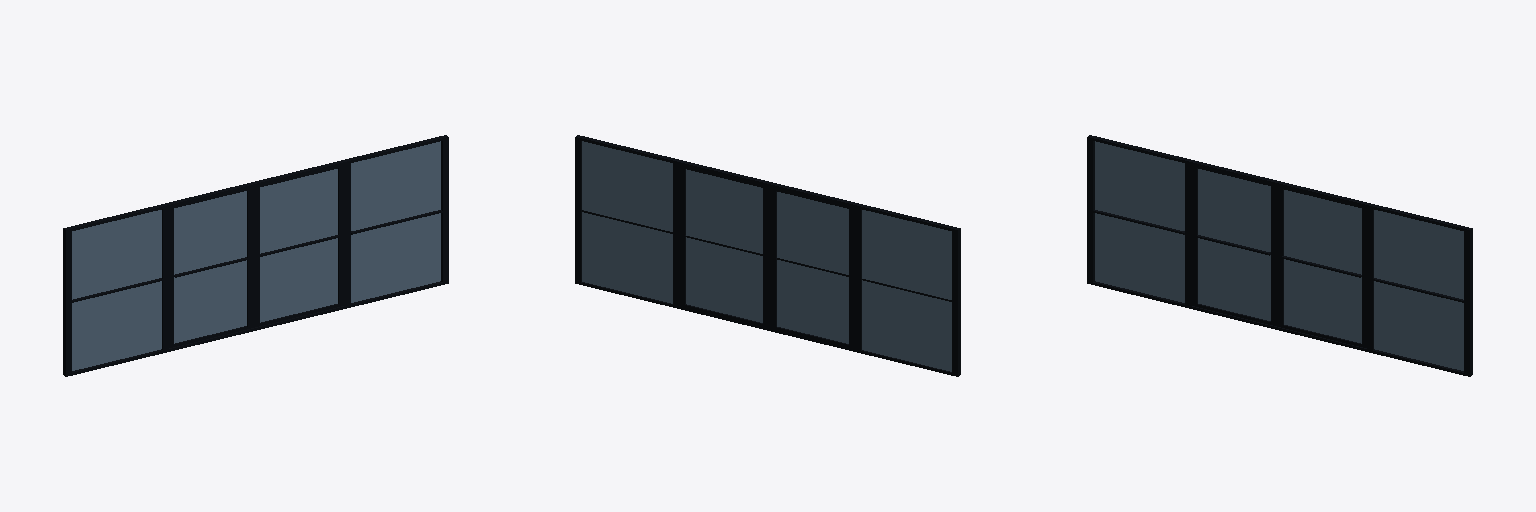
Rendered from chuang7.obj.
The picture shows the model from 3 angles: view 1: azimuth 30°, elevation 25°; view 2: azimuth 150°, elevation 25°; view 3: azimuth 330°, elevation 25°; orthographic projection.
Parts seen in each view (by area): view 1: Rectangle035, Rectangle032, Rectangle034, Rectangle036; view 2: Rectangle035, Rectangle032, Rectangle034, Rectangle036; view 3: Rectangle035, Rectangle032, Rectangle034, Rectangle036.
Boxes of the visible parts, x1,y1,x2,y2 form: Rectangle035: [72, 141, 440, 370]; Rectangle032: [63, 135, 448, 376]; Rectangle034: [169, 165, 344, 347]; Rectangle036: [72, 210, 442, 302]; Rectangle035: [582, 141, 951, 371]; Rectangle032: [575, 135, 960, 376]; Rectangle034: [679, 165, 854, 348]; Rectangle036: [582, 210, 951, 301]; Rectangle035: [1095, 141, 1463, 370]; Rectangle032: [1087, 135, 1472, 376]; Rectangle034: [1191, 165, 1366, 347]; Rectangle036: [1093, 210, 1463, 302].
Size of the model in its own units: 60 by 22 by 0.7.